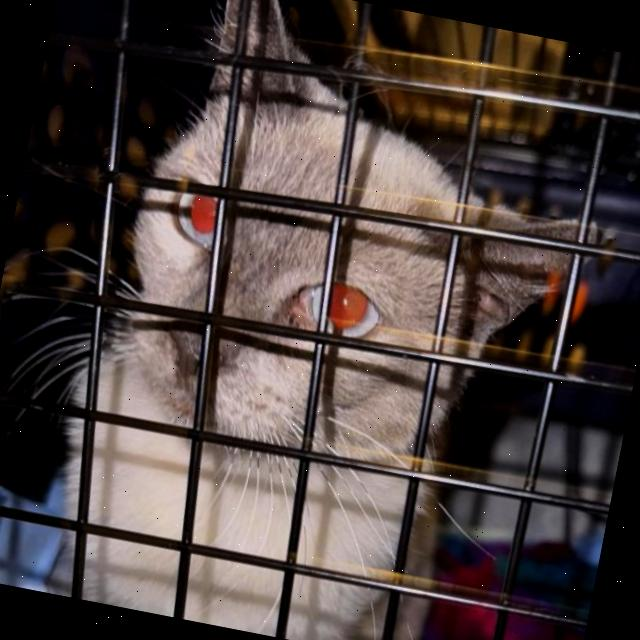siamese_cat: (36, 0, 640, 555)
